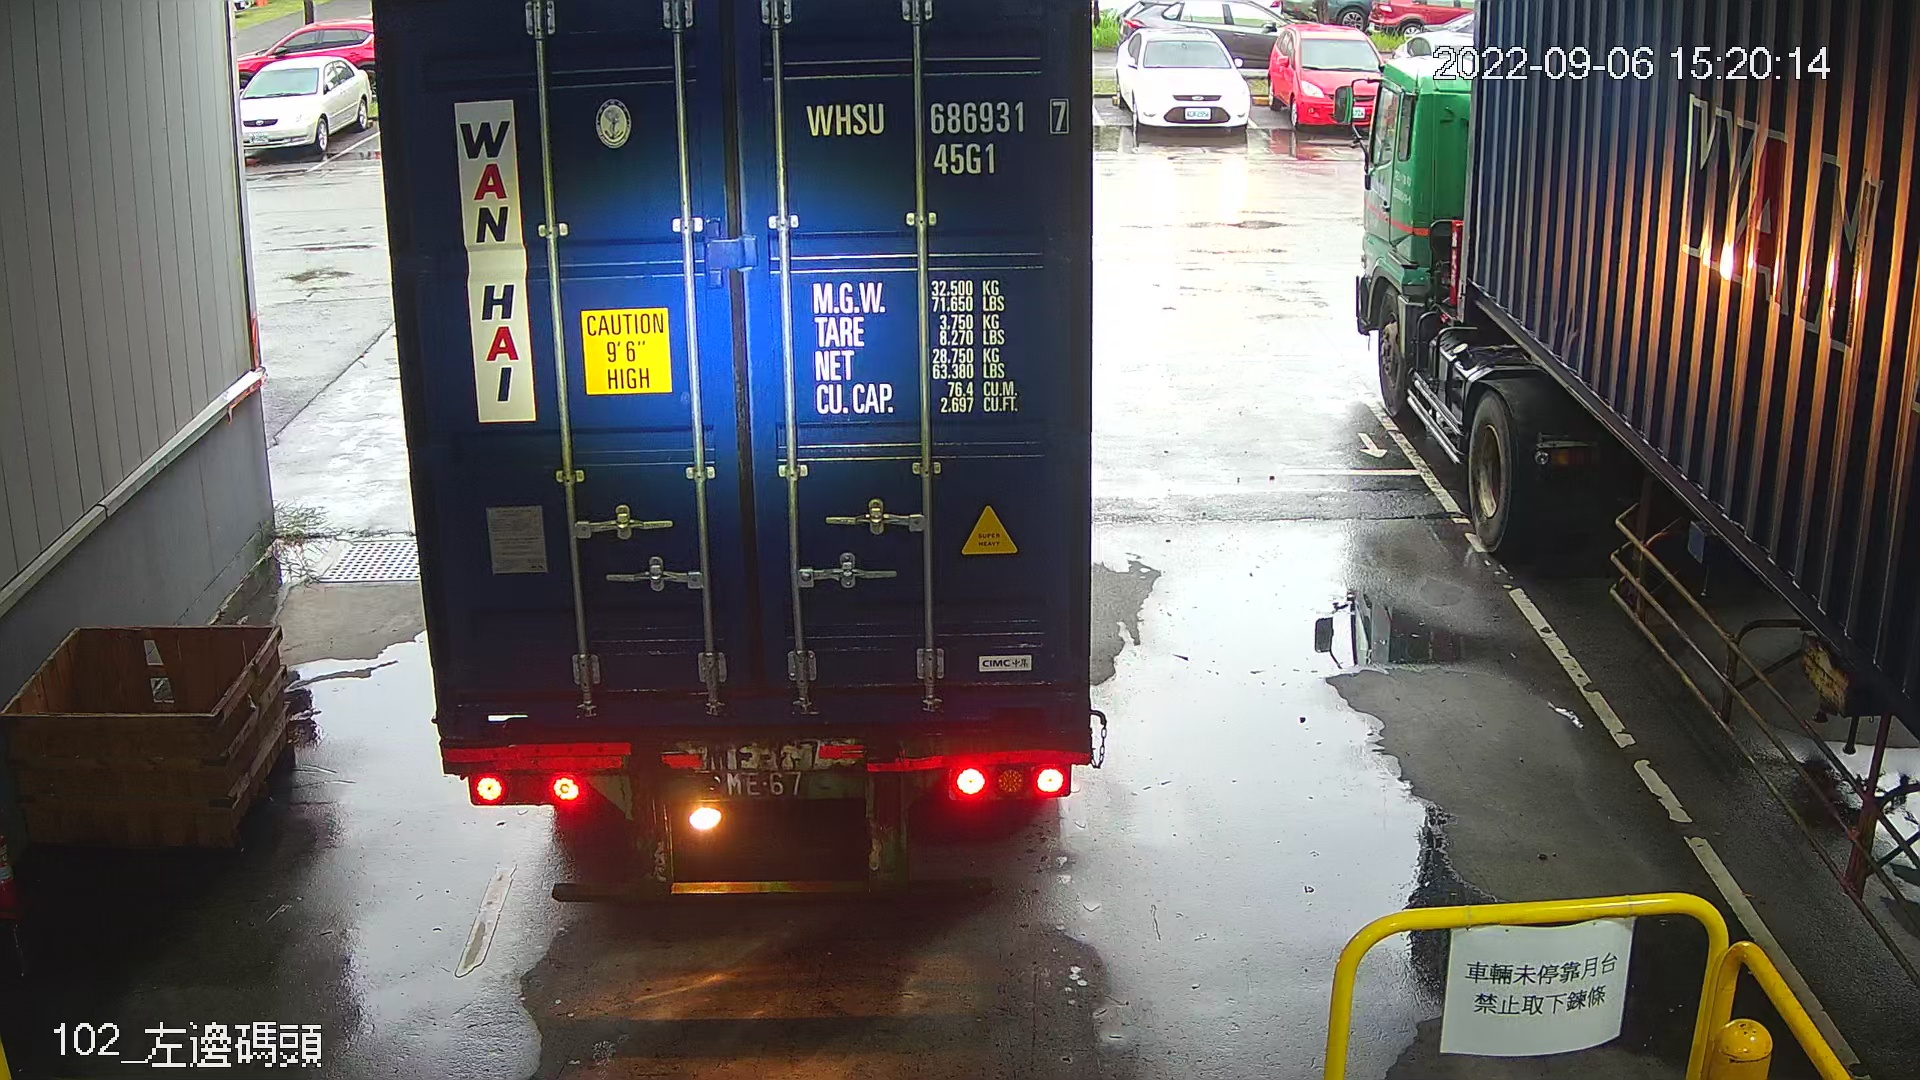container: (791, 88, 1083, 185)
